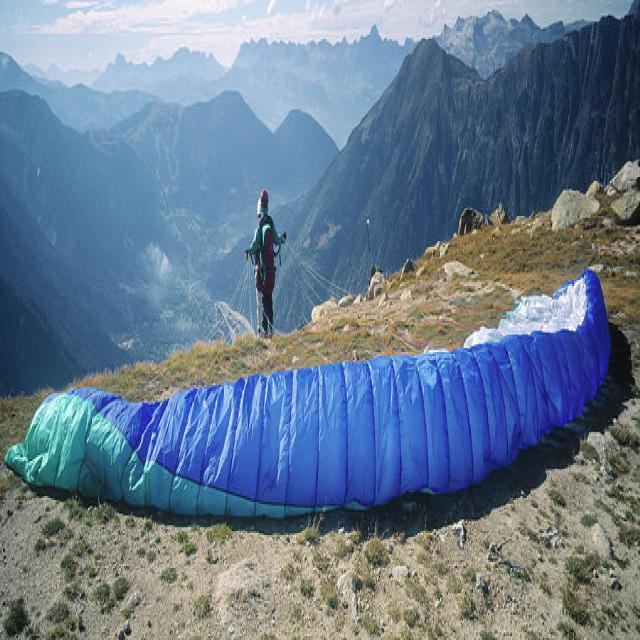paraglider: (4, 265, 612, 523)
